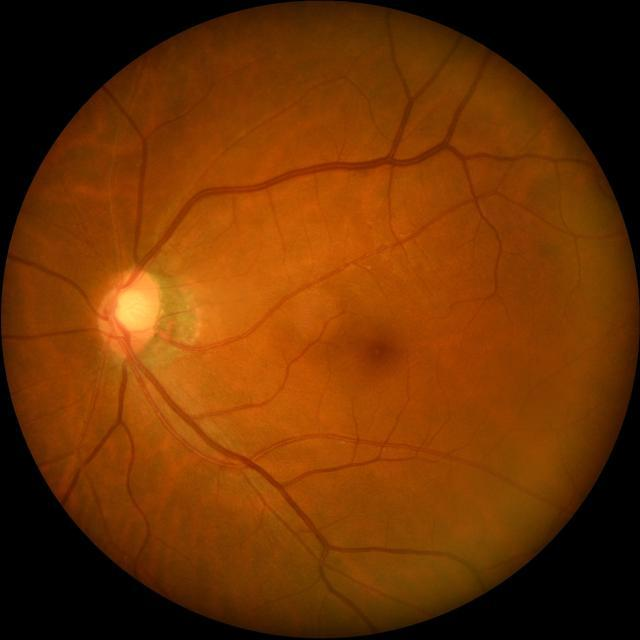OC: (114, 288, 150, 334)
OD: (98, 268, 162, 356)
